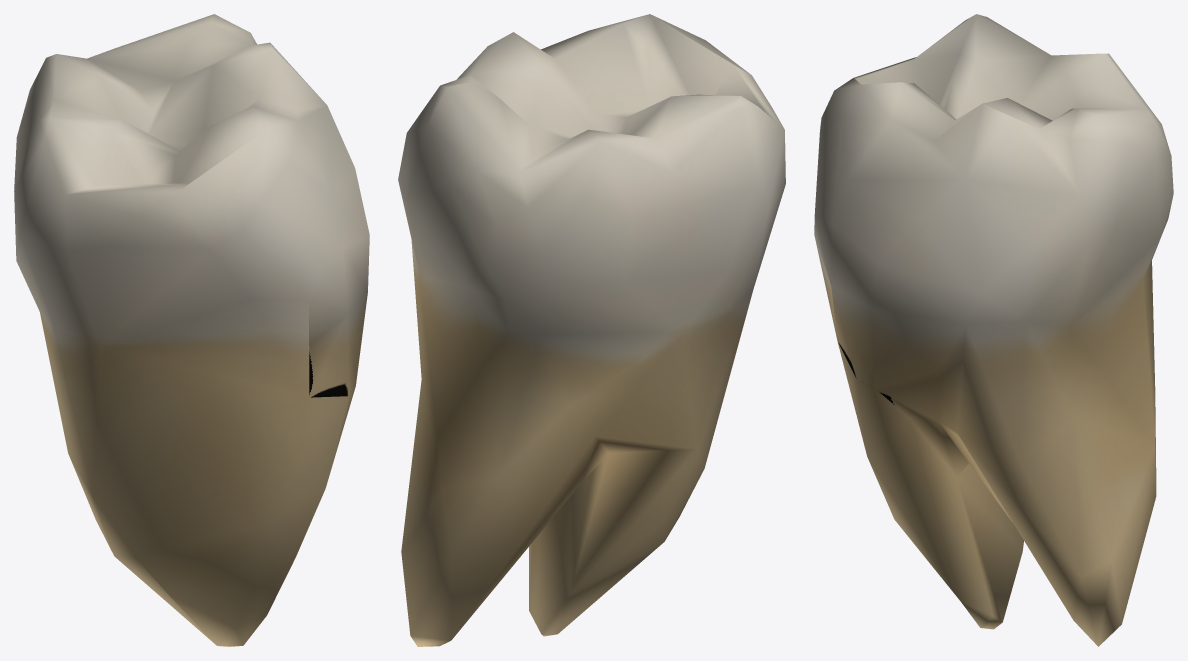
3 renders of one model, left to right at view 1: azimuth 30°, elevation 25°; view 2: azimuth 150°, elevation 25°; view 3: azimuth 270°, elevation 25°, orthographic. The views are drawn at different scales.
Parts seen in each view (by area): view 1: Object_2; view 2: Object_2; view 3: Object_2.
Part boxes in pixels (bbox=[...]): Object_2: bbox=[14, 14, 369, 646]; Object_2: bbox=[398, 14, 785, 646]; Object_2: bbox=[814, 14, 1173, 646].
Bounding box in the file's own units: 1.09 × 1.83 × 1.1.
1 material, 1 textured.
